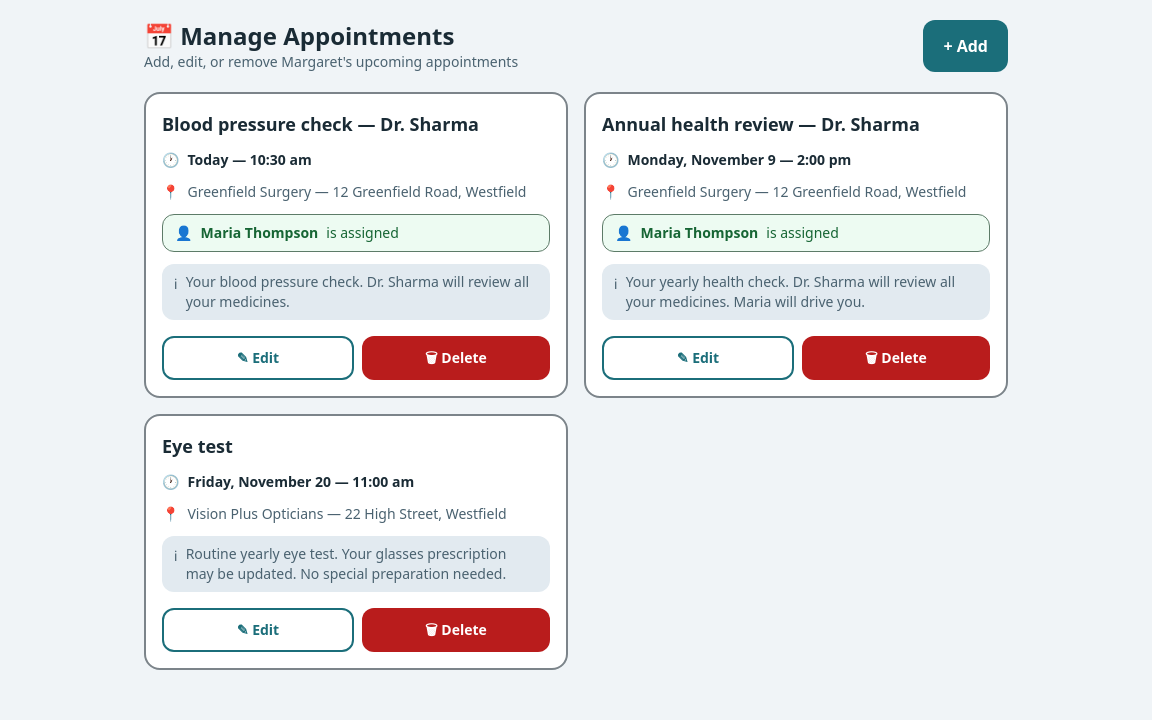
AppointmentsPage › form closes with Cancel, Close and a backdrop click
Click the button "+ Add" at (966, 46), box [923,20,1008,72]
(page scrolled)
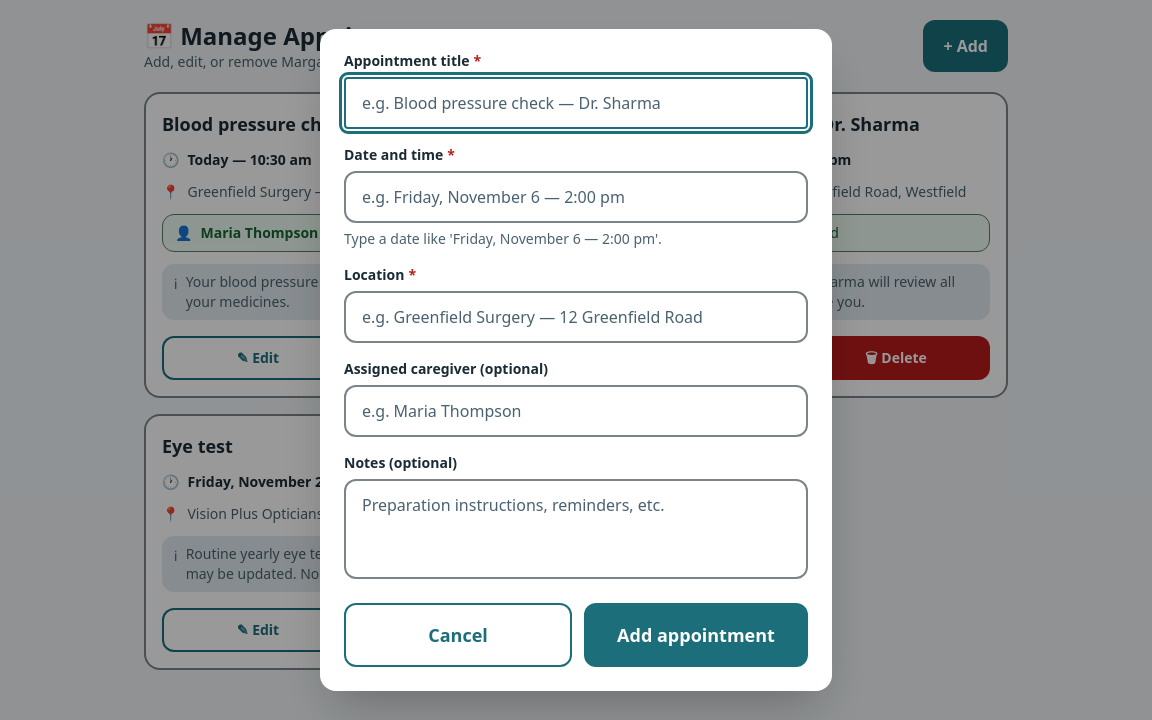
Click the button "Cancel" at (458, 635), box [344,603,572,667]
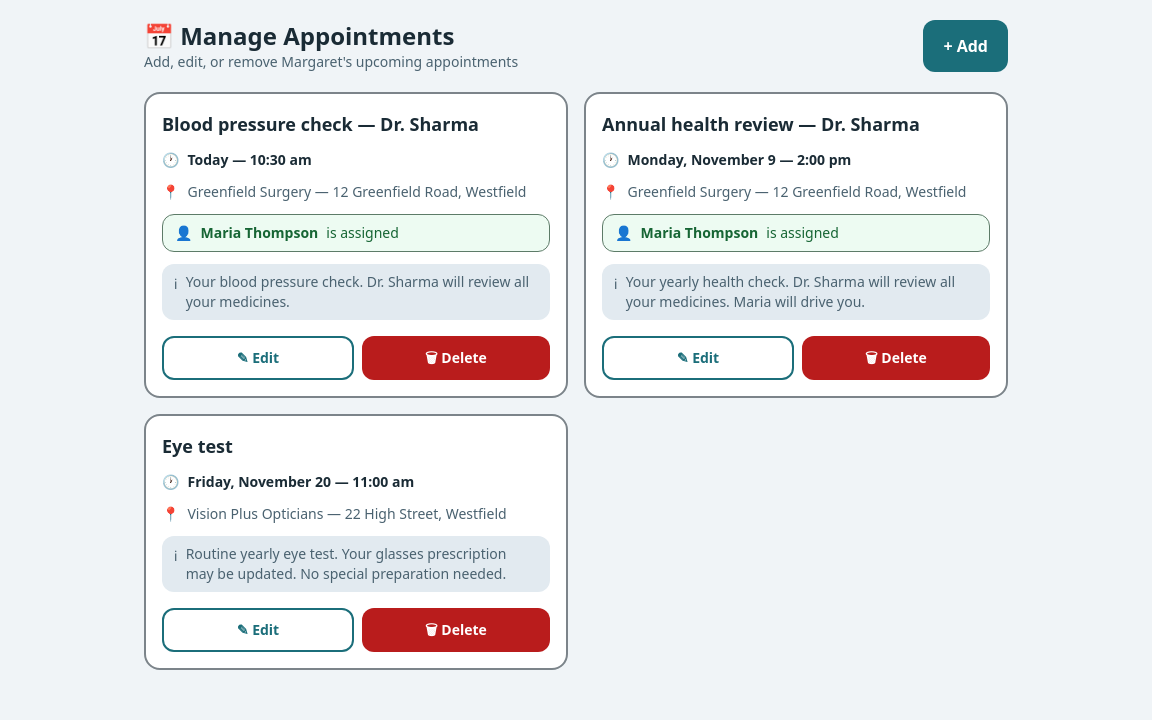
Click the button "+ Add" at (966, 46), box [923,20,1008,72]
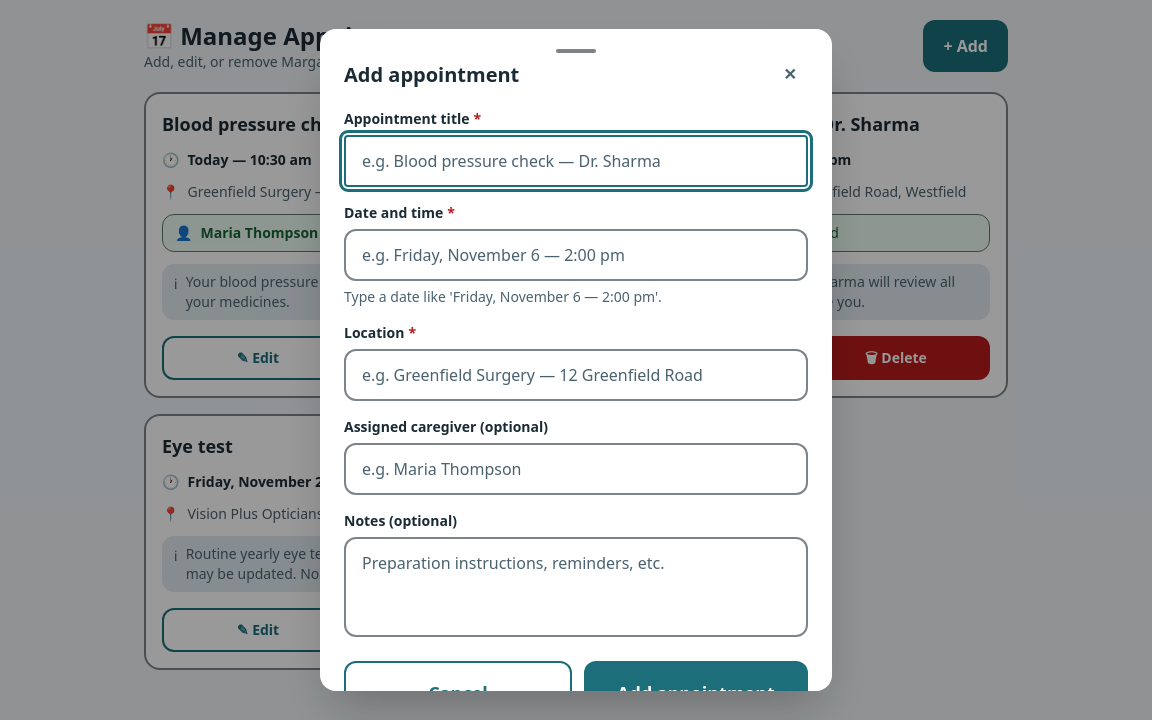
Click the button named "Close" at (790, 75), box [772,57,808,93]
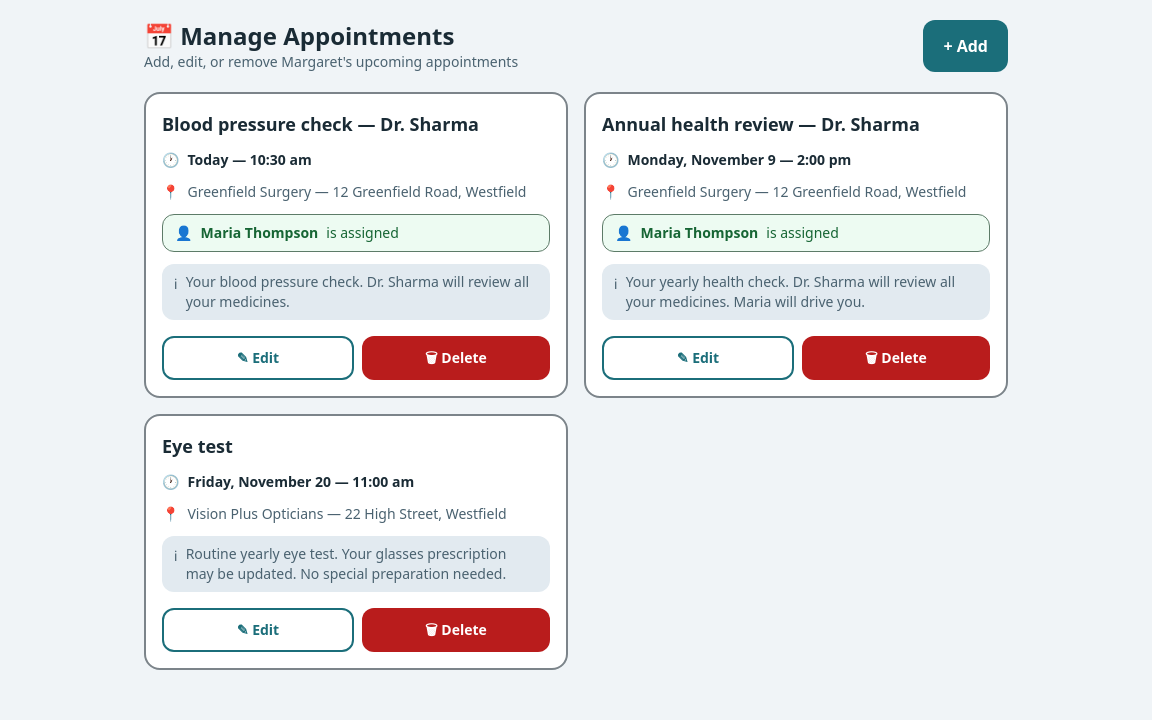
Result: the dialog is gone
